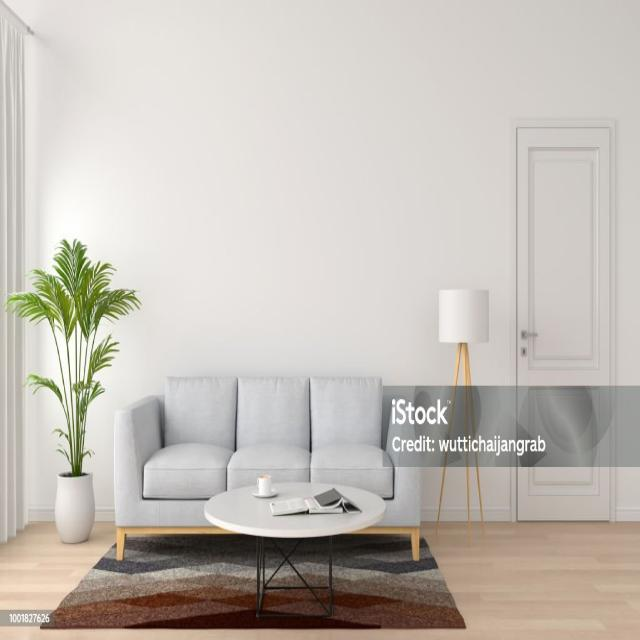back_cushion: (164, 377, 382, 450)
left_arm: (378, 467, 421, 526)
right_arm: (114, 396, 161, 524)
seat_cushion: (142, 436, 399, 499)
stallion-sofa: (114, 377, 420, 559)
